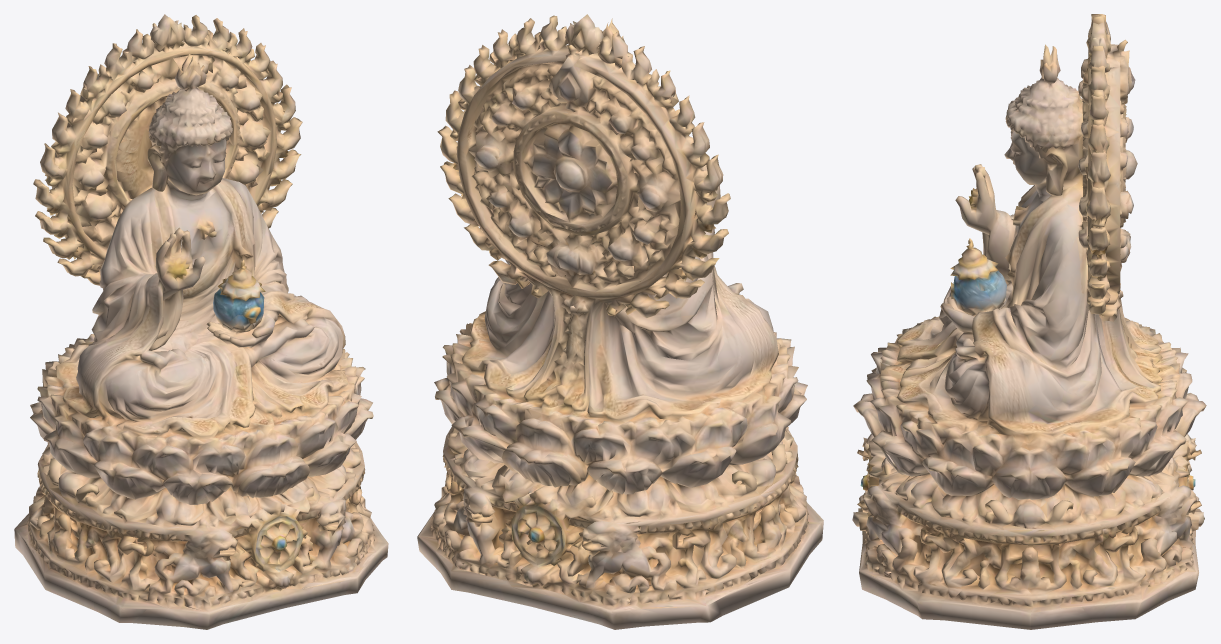
3 renders of one model, left to right at view 1: azimuth 30°, elevation 25°; view 2: azimuth 150°, elevation 25°; view 3: azimuth 270°, elevation 25°, orthographic. The views are drawn at different scales.
Parts seen in each view (by area): view 1: four-heavenly-kings-05; view 2: four-heavenly-kings-05; view 3: four-heavenly-kings-05.
Part boxes in pixels (x1=…): four-heavenly-kings-05: x1=14, y1=14, x2=388, y2=629; four-heavenly-kings-05: x1=417, y1=14, x2=823, y2=629; four-heavenly-kings-05: x1=852, y1=14, x2=1206, y2=629.
Bounding box in the file's own units: 0.638 × 0.9989 × 0.6062.
Materials: 1 (1 with a texture image).
